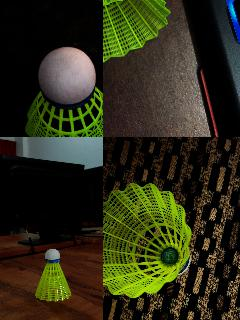shuttlecock: (103, 182, 192, 298), (25, 44, 102, 136), (103, 0, 169, 65), (35, 248, 71, 300)
